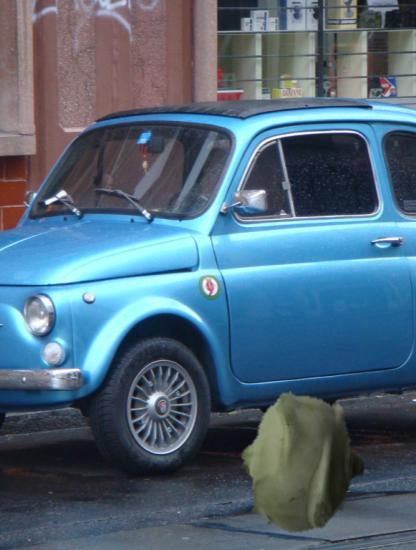Kohlrabi: (231, 391, 375, 535)
